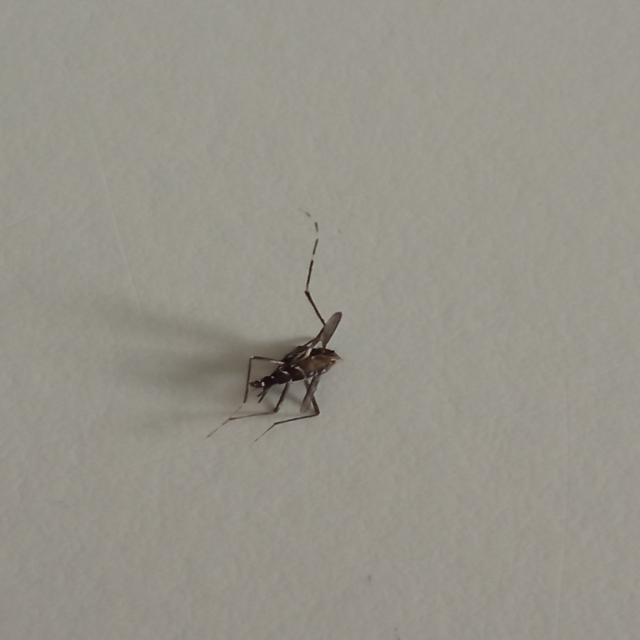albopictus: (202, 212, 366, 443)
